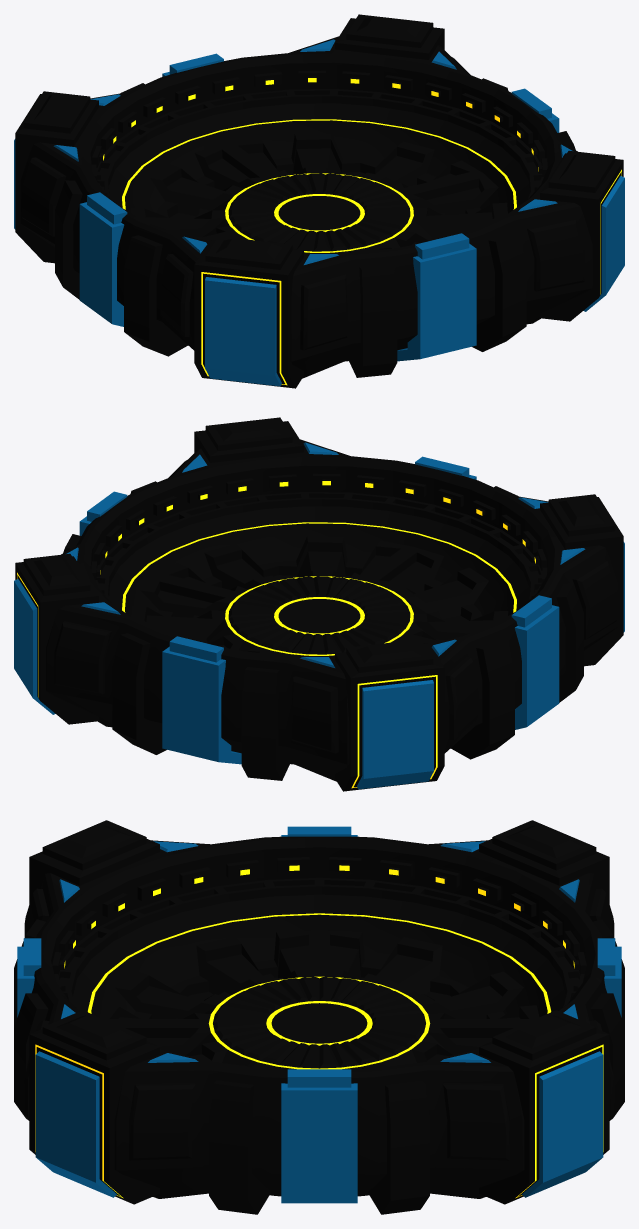
The model's file is 01_yard_ekudon.glb.
3 renders of one model, top to bottom at view 1: azimuth 30°, elevation 25°; view 2: azimuth 150°, elevation 25°; view 3: azimuth 270°, elevation 25°, orthographic. The views are drawn at different scales.
Visible parts, largest first — view 1: 01_yard_ekudon; view 2: 01_yard_ekudon; view 3: 01_yard_ekudon.
Part boxes in pixels (x1,y1,x2,y2): 01_yard_ekudon: [14, 14, 624, 388]; 01_yard_ekudon: [14, 417, 624, 791]; 01_yard_ekudon: [14, 820, 624, 1214].
Size of the model in its own units: 1.01 by 0.3176 by 1.01.
